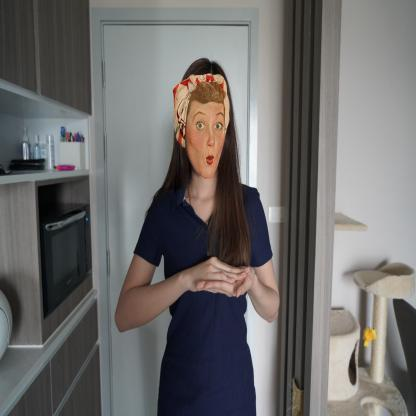Love: (184, 254, 264, 301)
